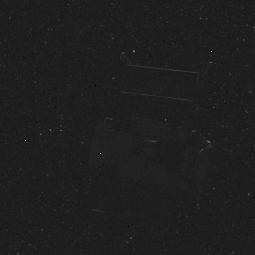proba_2: (94, 48, 218, 221)
